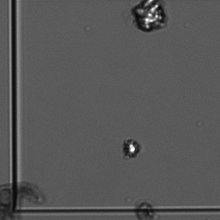Living Cell: (130, 1, 169, 36), (121, 135, 144, 163)
